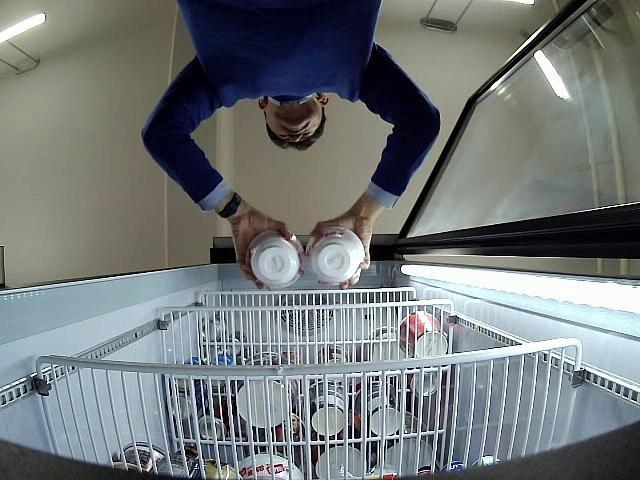09_yukGaeJang: (306, 226, 367, 286), (246, 232, 305, 290)
